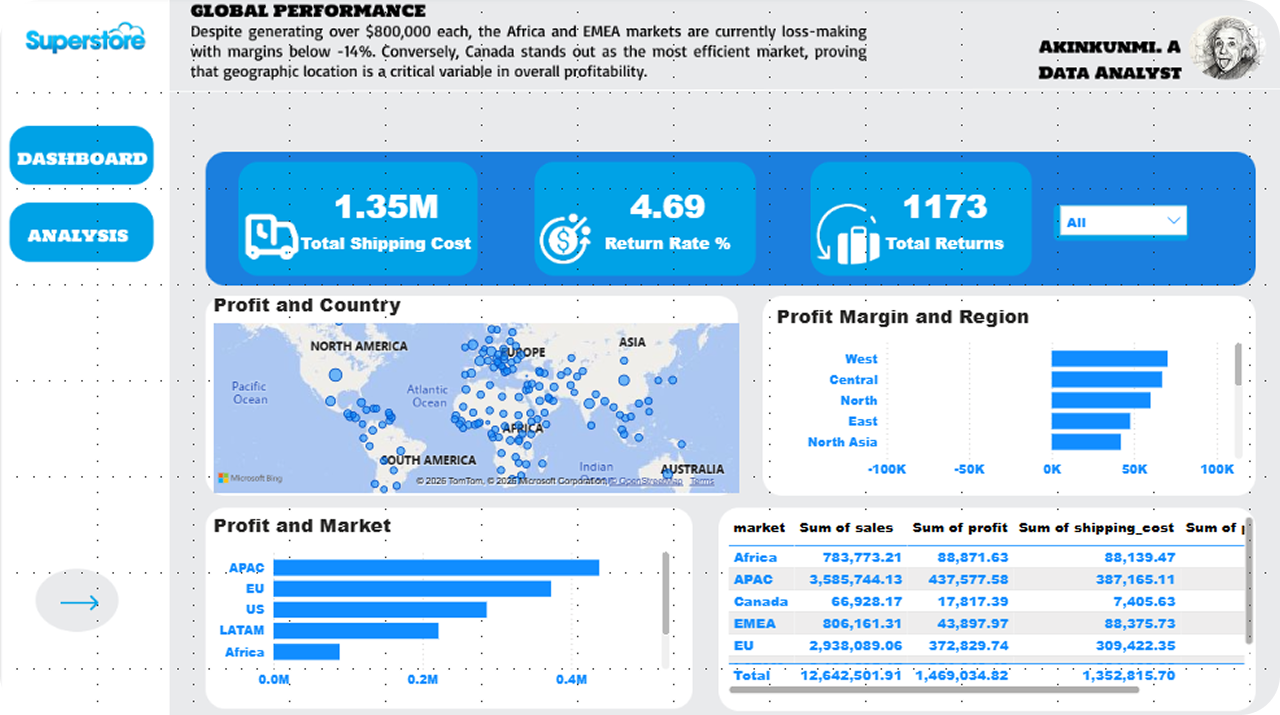

What the dashboard file says about the page in this screenshot:
{"tool":"powerbi","page":{"name":"Global Performance","canvas":[1280,720],"ordinal":2},"visuals":[{"type":"card","fields":{"Values":["Table.Total Shipping Cost"]},"box":[295,172.5,180.9,97.4],"z":0},{"type":"card","fields":{"Values":["Table.Return Rate %"]},"box":[563.5,172.5,207.3,97.4],"z":1000},{"type":"card","fields":{"Values":["Table.Total Returns"]},"box":[877.9,172.5,130.8,97.4],"z":2000},{"type":"map","title":"Profit and Country","fields":{"Category":["Orders.country"],"Size":["Sum(Orders.profit)"]},"box":[207.3,295,535.7,207.3],"z":3000},{"type":"barChart","title":"Profit and Market","fields":{"Category":["Orders.market"],"Y":["Sum(Orders.profit)"]},"box":[207.3,514.8,466.1,187.8],"z":4000},{"type":"barChart","title":"Profit Margin and Region","fields":{"Category":["Orders.region"],"Y":["Sum(Orders.profit_margin_pct)"]},"box":[770.8,306.1,475.8,186.4],"z":5000},{"type":"tableEx","fields":{"Values":["Orders.market","Sum(Orders.sales)","Sum(Orders.profit)","Sum(Orders.shipping_cost)","Sum(Orders.profit_margin_pct)"]},"box":[720.7,514.8,535.7,187.8],"z":6000},{"type":"slicer","fields":{"Values":["Orders.market"]},"box":[1049,200.3,146.1,43.1],"z":7000}]}

Visuals, with their boxes in screenshot pixels (x1, y1, x2, y2), scaled from the page's 1280x720 canvas onto the 1280x715 screenshot:
card - Table.Total Shipping Cost: box(295, 171, 476, 268)
card - Table.Return Rate %: box(564, 171, 771, 268)
card - Table.Total Returns: box(878, 171, 1009, 268)
"Profit and Country" map: box(207, 293, 743, 499)
"Profit and Market" barChart: box(207, 511, 673, 698)
"Profit Margin and Region" barChart: box(771, 304, 1247, 489)
tableEx - Orders.market x Sum(Orders.sales): box(721, 511, 1256, 698)
slicer - Orders.market: box(1049, 199, 1195, 242)
